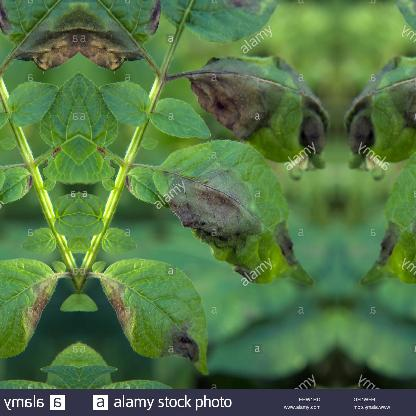Late-Blight: (145, 182, 314, 304), (167, 46, 328, 174), (98, 266, 226, 380), (344, 46, 416, 173), (359, 182, 416, 304), (0, 266, 57, 379), (78, 0, 144, 84), (12, 0, 78, 84)
